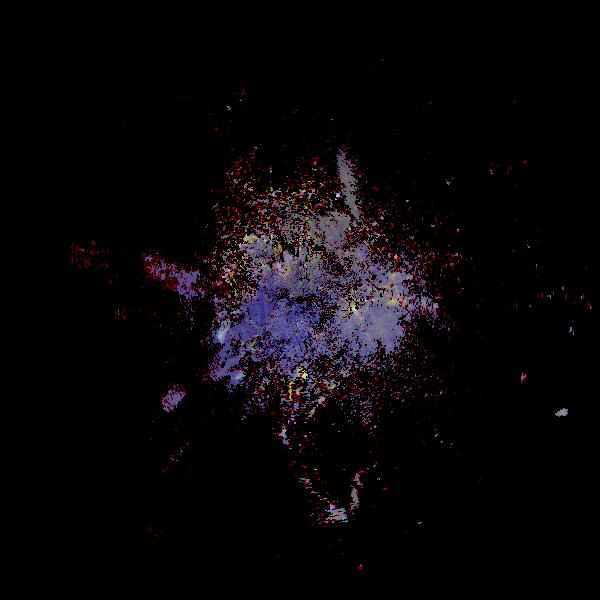roost: (553, 402, 574, 423), (293, 364, 314, 385), (348, 302, 363, 317), (519, 373, 531, 385)
